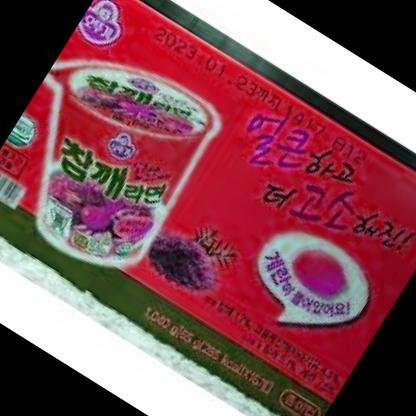Ramen: (0, 33, 240, 290)
